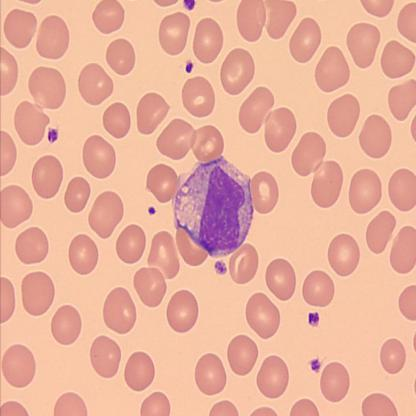Atypical lymphocyte: (171, 156, 254, 258)
